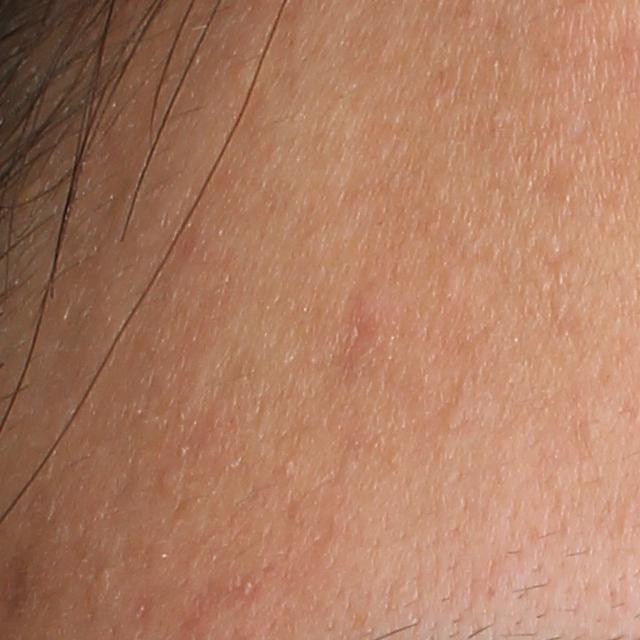comedo: (435, 401, 468, 427), (577, 417, 606, 445)
